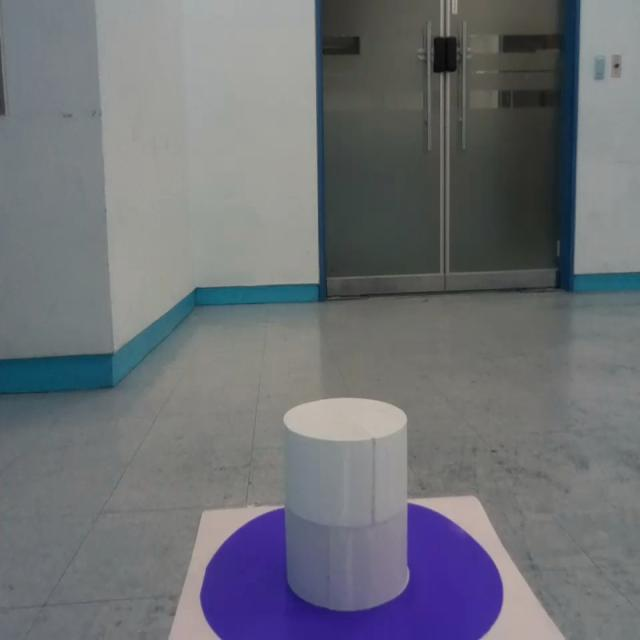cylinder: (281, 397, 410, 611)
